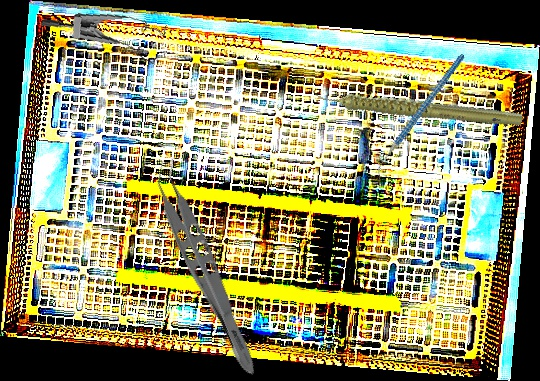Chopper: (345, 53, 496, 182)
Handpiece: (309, 42, 525, 169)
Speculum: (39, 0, 172, 80)
Tissue Forceps: (141, 155, 276, 380)
